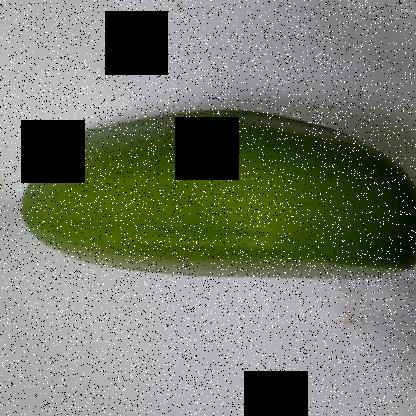freshunripe: (10, 90, 415, 304)
